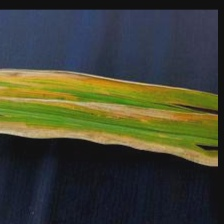Leaf_Blast: (0, 84, 214, 136)
